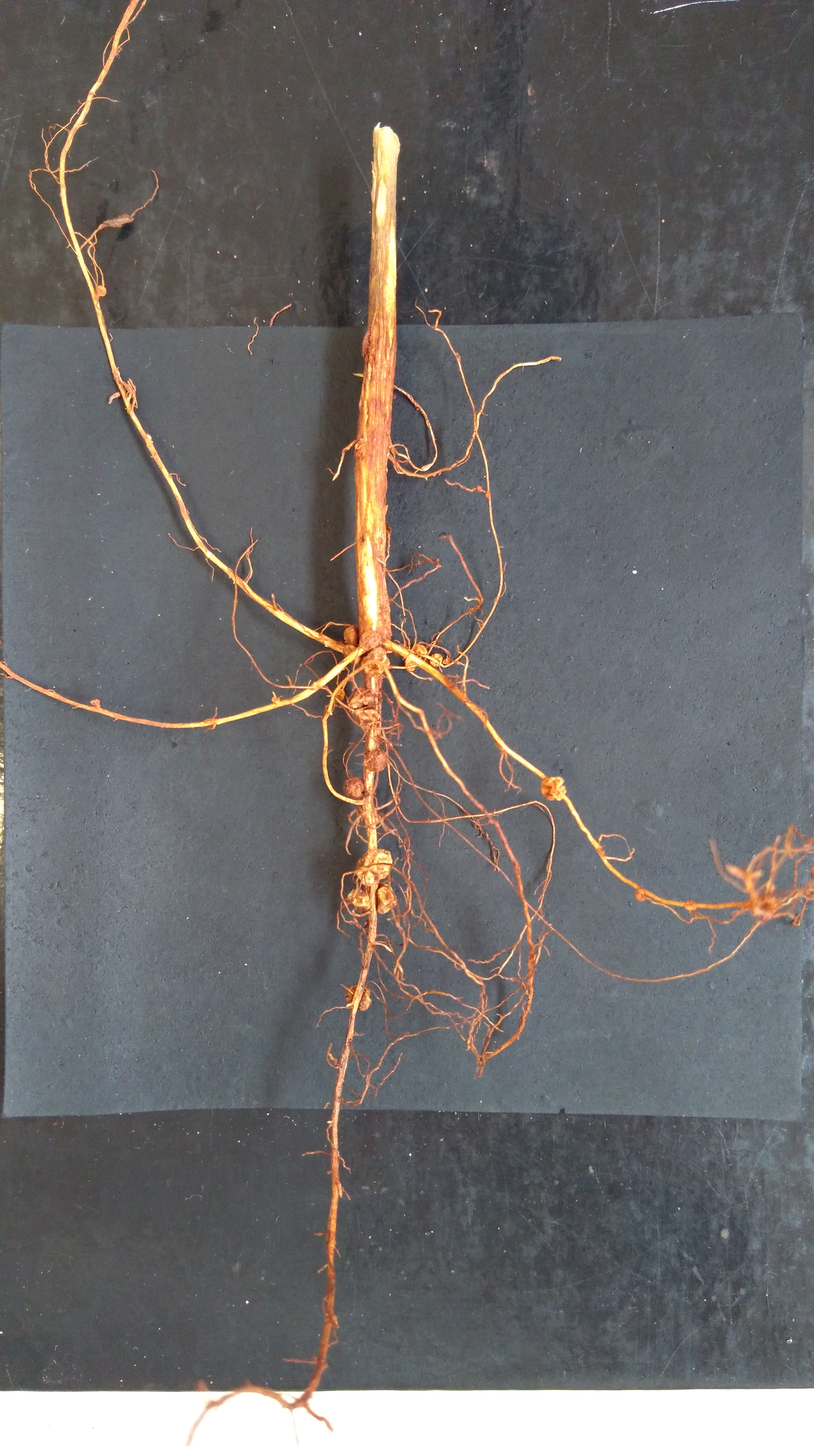nodule: (354, 847, 395, 886), (360, 645, 391, 680), (539, 774, 568, 805), (375, 883, 399, 918), (343, 983, 373, 1011), (349, 708, 382, 729), (346, 887, 371, 914), (341, 775, 365, 802), (363, 748, 390, 772), (346, 687, 373, 709), (355, 804, 382, 826), (359, 628, 383, 650), (338, 645, 362, 666), (341, 622, 360, 647), (403, 654, 419, 672), (428, 652, 443, 667), (412, 643, 429, 656), (634, 886, 648, 901), (334, 687, 346, 702), (684, 899, 698, 911), (96, 284, 107, 298), (380, 627, 389, 642), (442, 657, 451, 667)
